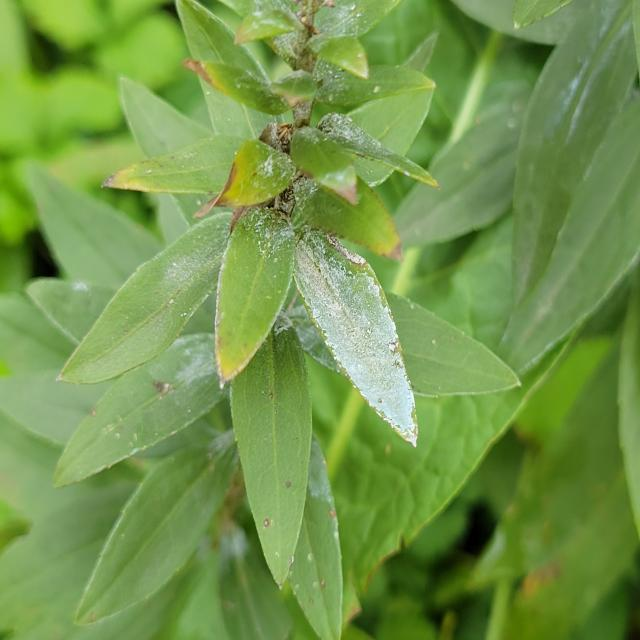powdery_mildew: (294, 228, 418, 446)
